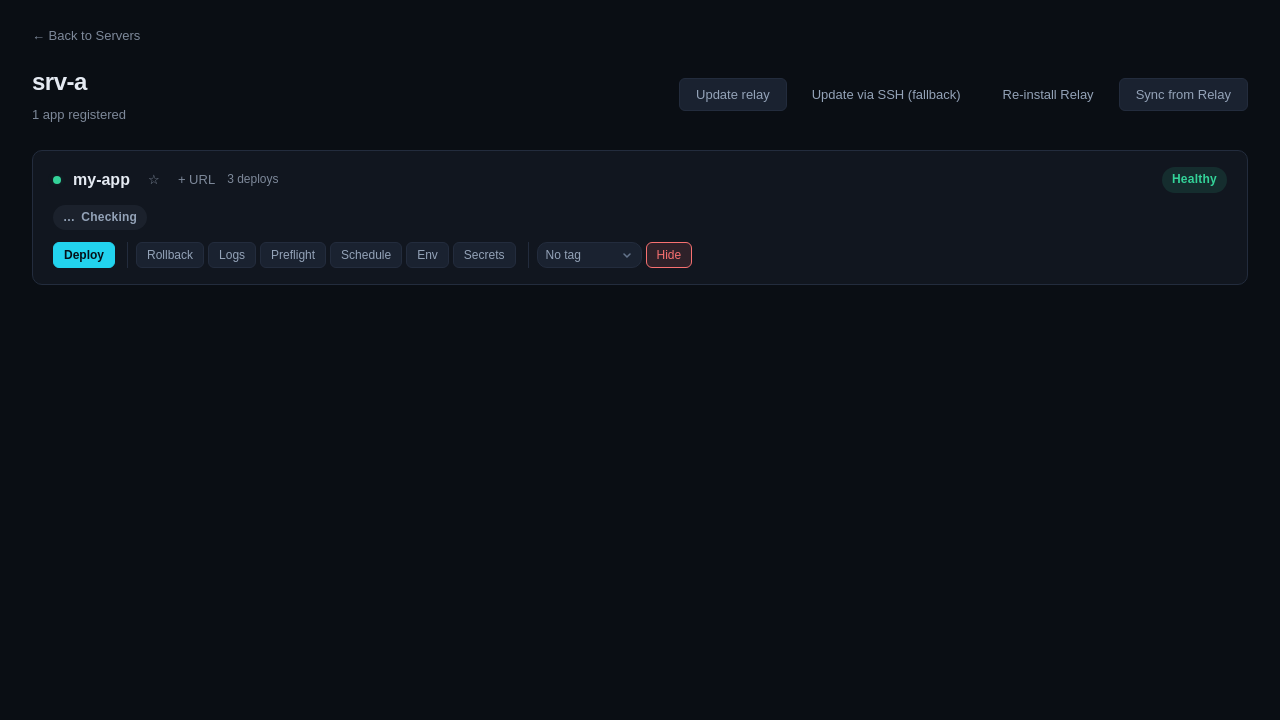
ServerDetailPage — Rollback result surfacing › blocked:true shows a short error toast naming only the failing check, not the full preflight message
Expected: the text "my-app" is shown, [73, 167, 130, 193]
Click the button "Rollback" at (170, 255), box [136, 242, 204, 268]
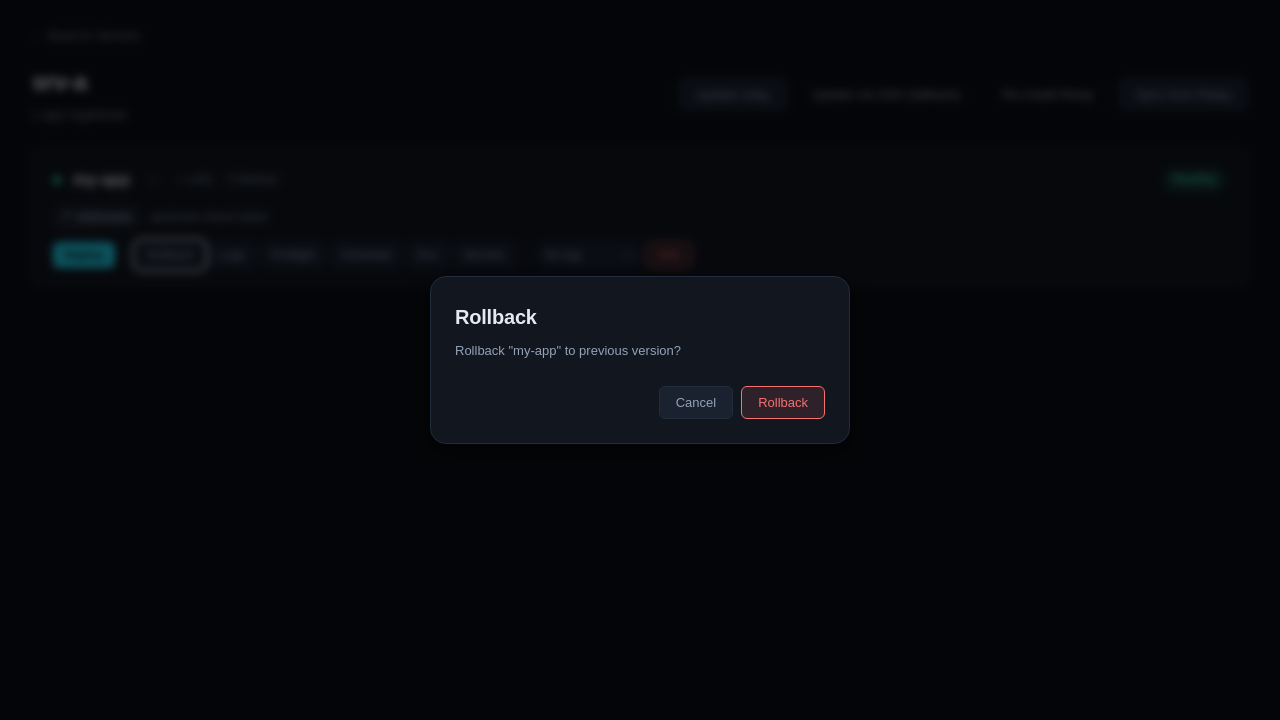
Click the button "Rollback" at (783, 402), box [741, 386, 825, 419]
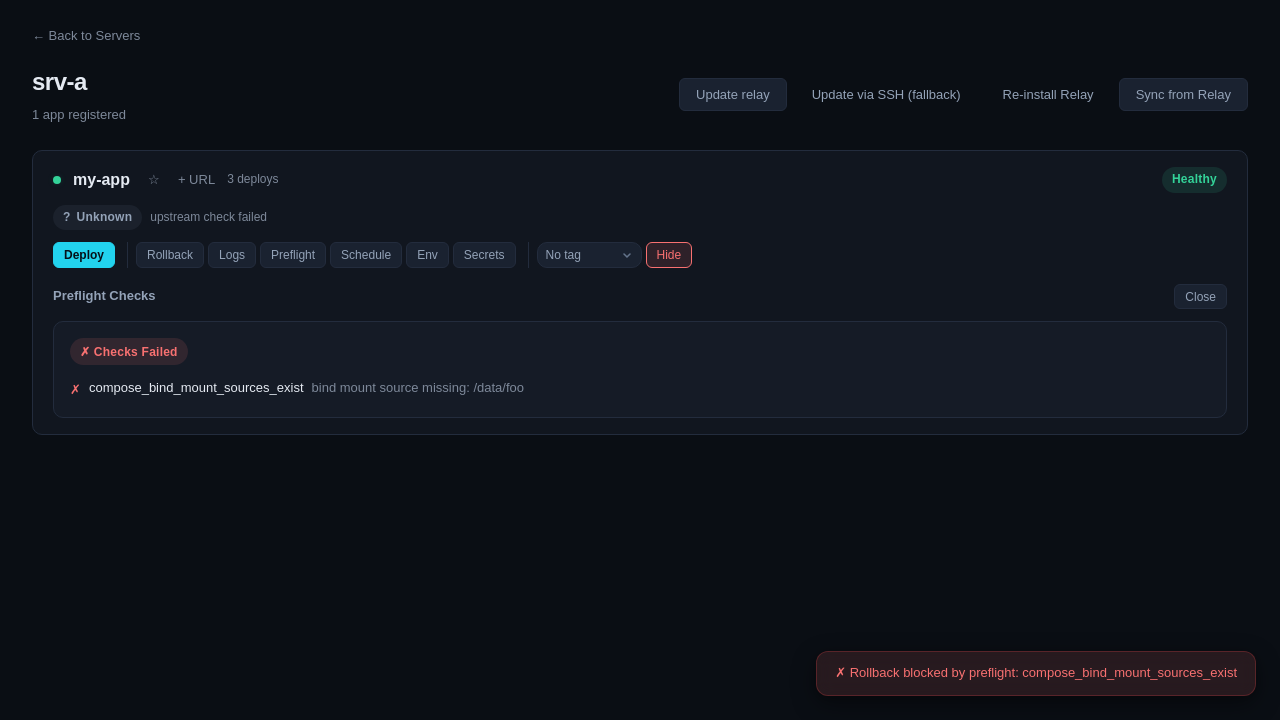
Expected: the message does not show "bind mount source missing: /data/foo", [816, 651, 1256, 696]
Expected: the message shows "compose_bind_mount_sources_exist", [850, 665, 1237, 680]
